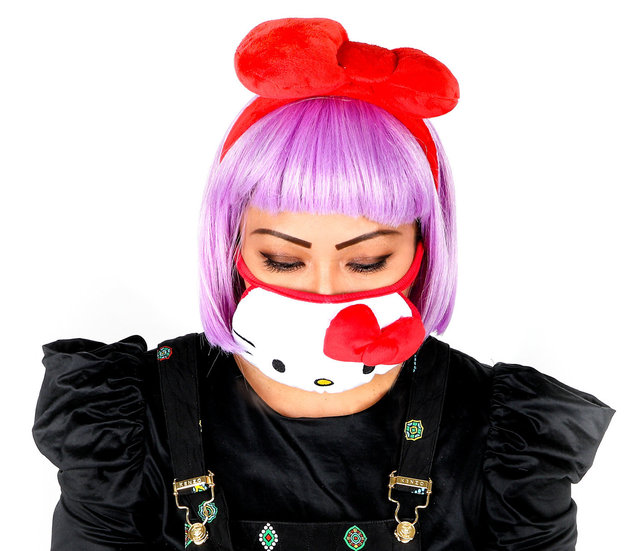mask: (241, 291, 398, 389)
